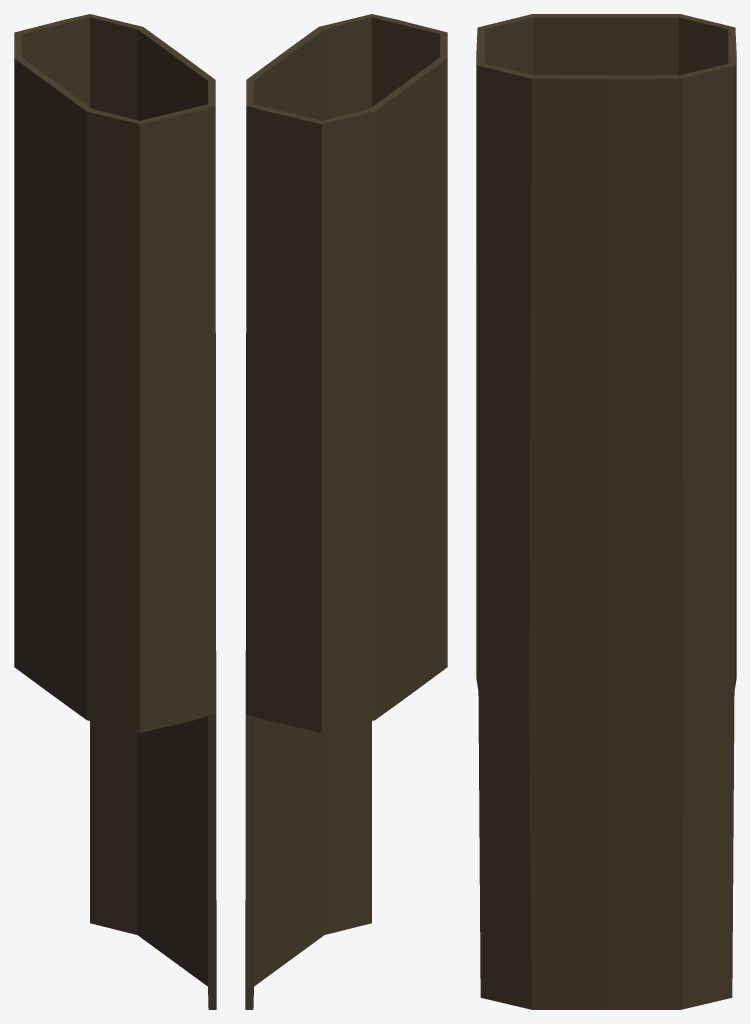
The model's file is Straight_.002.fbx.
3 renders of one model, left to right at view 1: azimuth 30°, elevation 25°; view 2: azimuth 150°, elevation 25°; view 3: azimuth 270°, elevation 25°, orthographic. The views are drawn at different scales.
Parts seen in each view (by area): view 1: Straight_.002; view 2: Straight_.002; view 3: Straight_.002.
Boxes of the visible parts, x1,y1,x2,y2 form: Straight_.002: (14,14,216,1009); Straight_.002: (245,14,447,1009); Straight_.002: (476,14,736,1009).
Size of the model in its own units: 0.9227 by 6.17 by 1.56.
